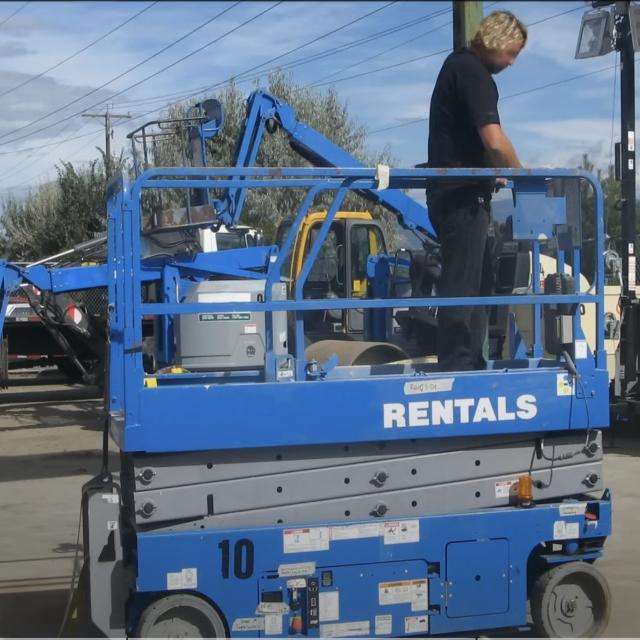2m above platform: (108, 181, 614, 640)
worker: (438, 9, 531, 362)
